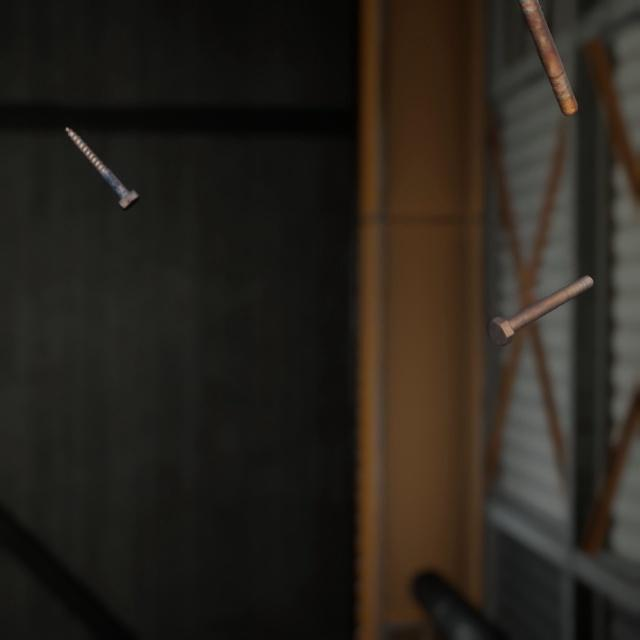bolt: (483, 253, 598, 332), (61, 109, 144, 201), (516, 0, 582, 111)
